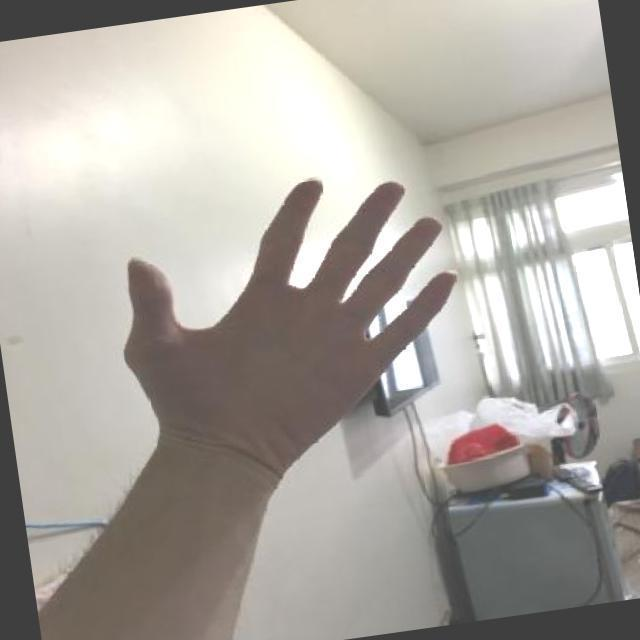Hand: (118, 172, 460, 492)
